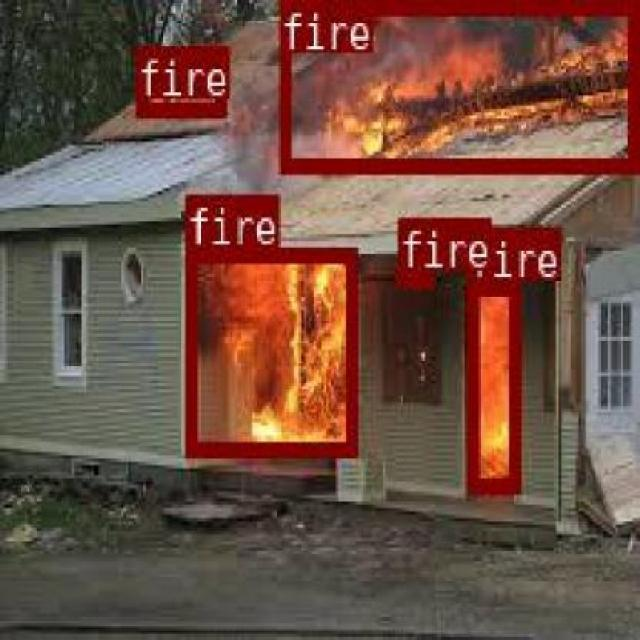Fire: (276, 0, 636, 168), (184, 246, 353, 452), (466, 278, 519, 492), (134, 44, 223, 113), (396, 266, 432, 286)
